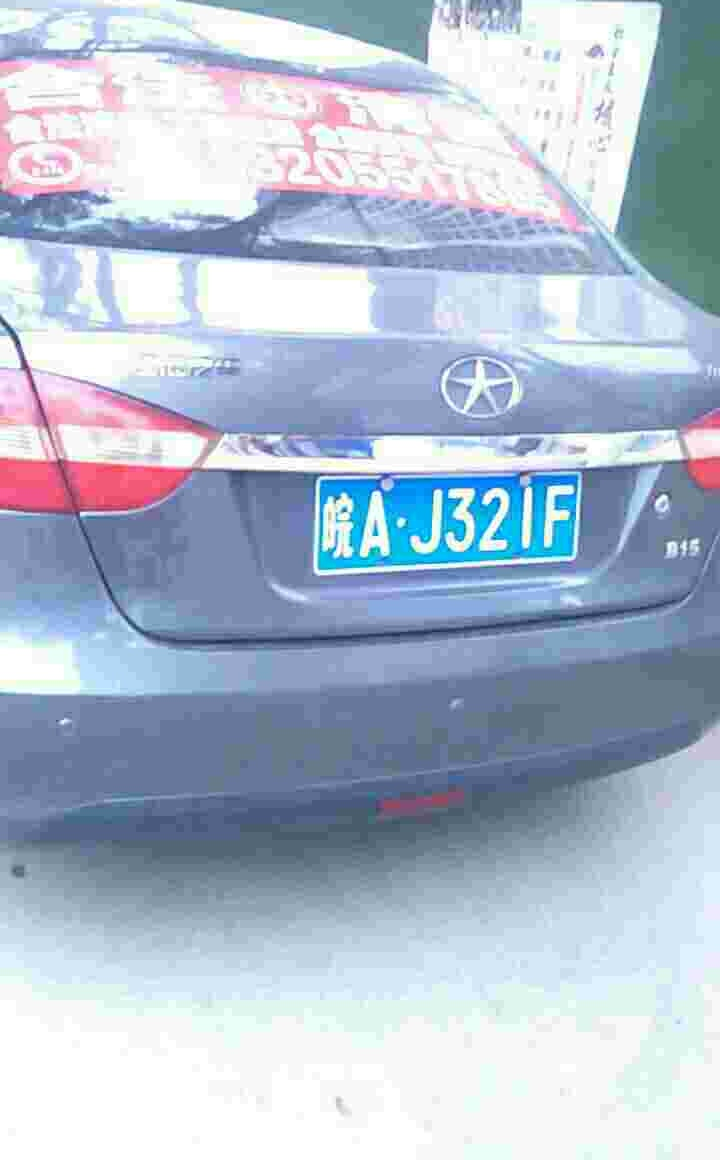license_plate: (313, 480, 576, 576)
